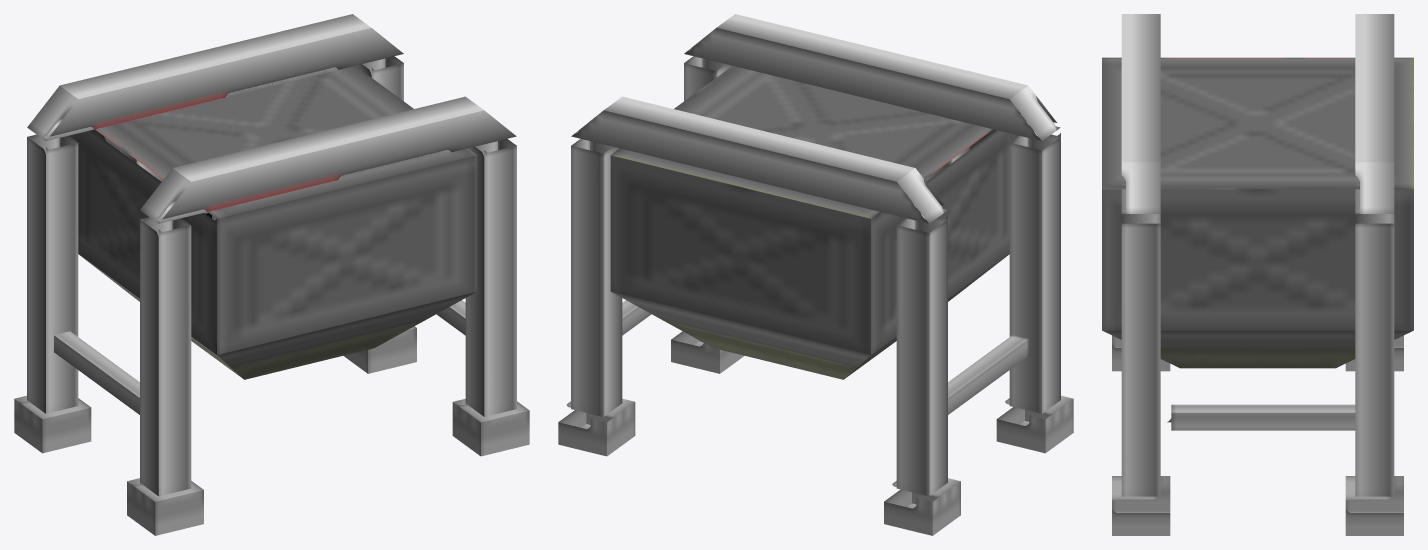
File: bedrock_ore_processor_top.obj
3 renders of one model, left to right at view 1: azimuth 30°, elevation 25°; view 2: azimuth 150°, elevation 25°; view 3: azimuth 270°, elevation 25°, orthographic. The views are drawn at different scales.
Parts seen in each view (by area): view 1: Hydraulics; view 2: Hydraulics; view 3: Hydraulics.
Boxes of the visible parts, x1,y1,x2,y2 form: Hydraulics: (14,14,529,535); Hydraulics: (558,14,1073,535); Hydraulics: (1102,14,1413,535).
Bounding box in the file's own units: 2.88 × 2.5 × 2.
